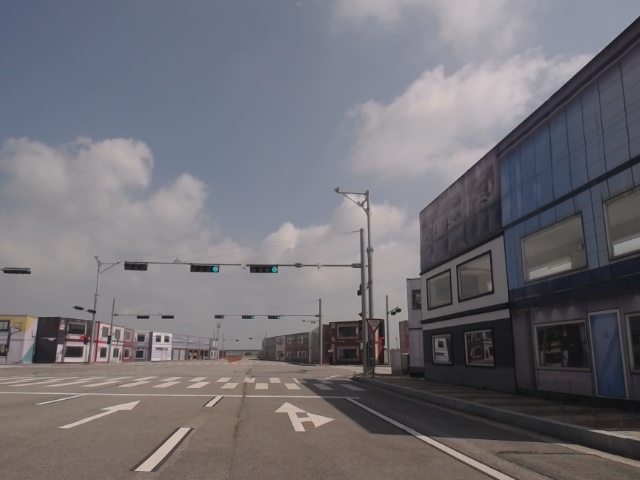straight_green_4: (191, 264, 220, 274), (251, 264, 279, 273)
